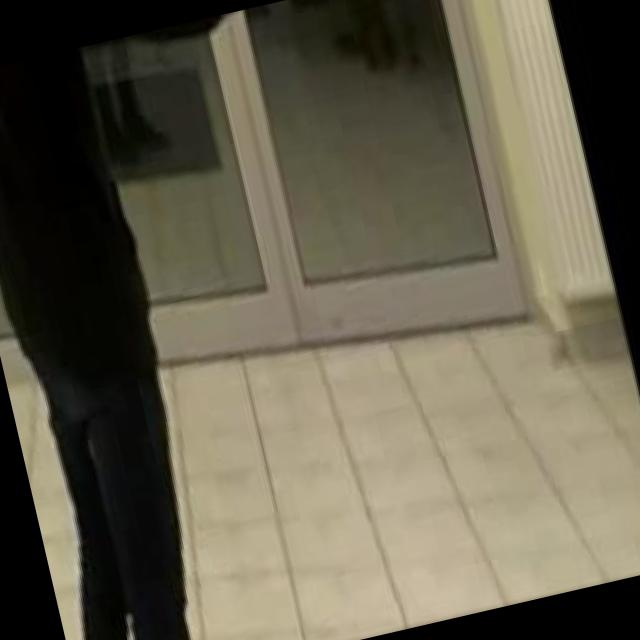Guns: (283, 0, 388, 15)
